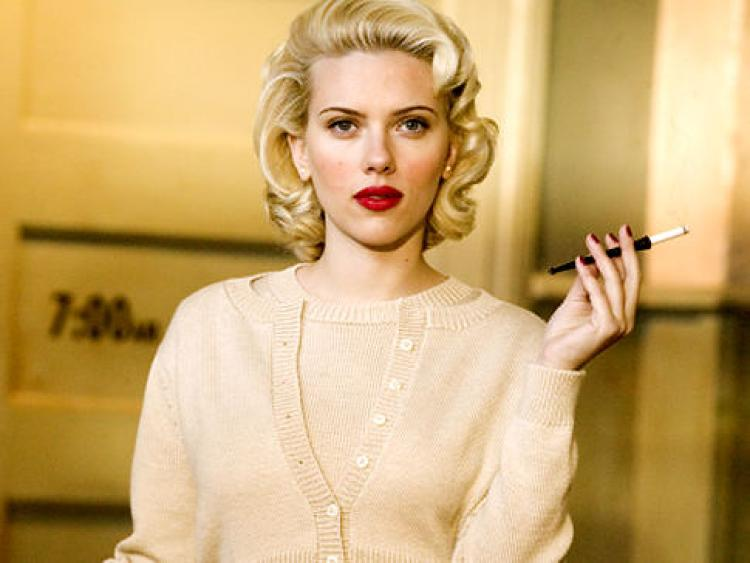cigarette: (636, 217, 696, 251)
